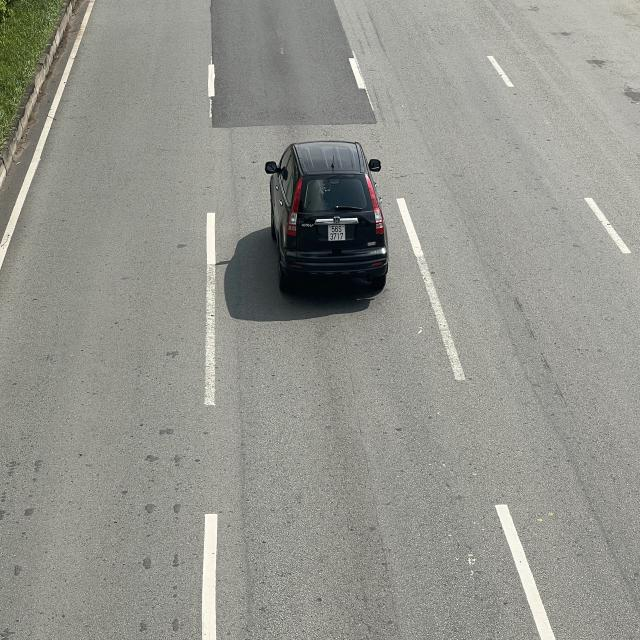car: (265, 139, 387, 299)
